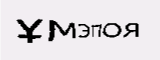Г: (103, 8, 117, 31)
К: (30, 13, 52, 38), (87, 7, 103, 31)
П: (71, 11, 85, 35)
Э: (52, 12, 70, 36)
